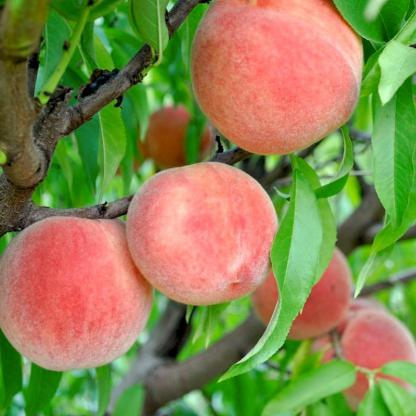Peach leaf: (217, 154, 323, 412), (370, 74, 413, 229), (255, 357, 360, 415), (89, 102, 121, 212), (372, 39, 415, 109)
